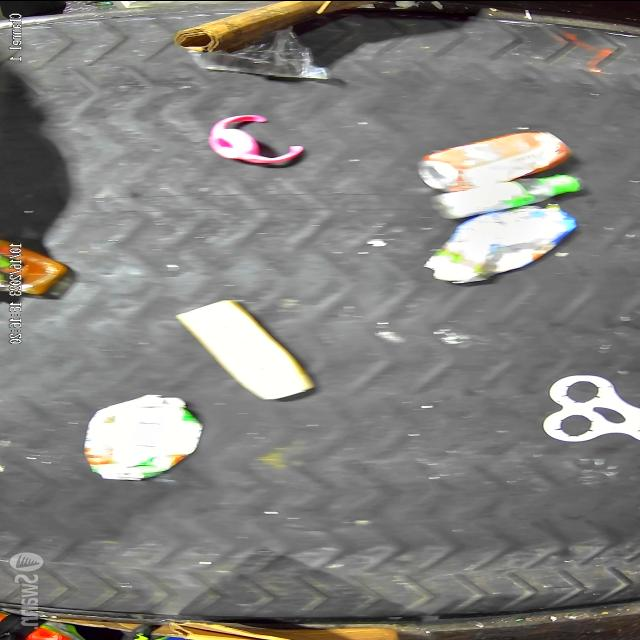can: (417, 130, 570, 190)
non_white_jug: (86, 392, 202, 480)
